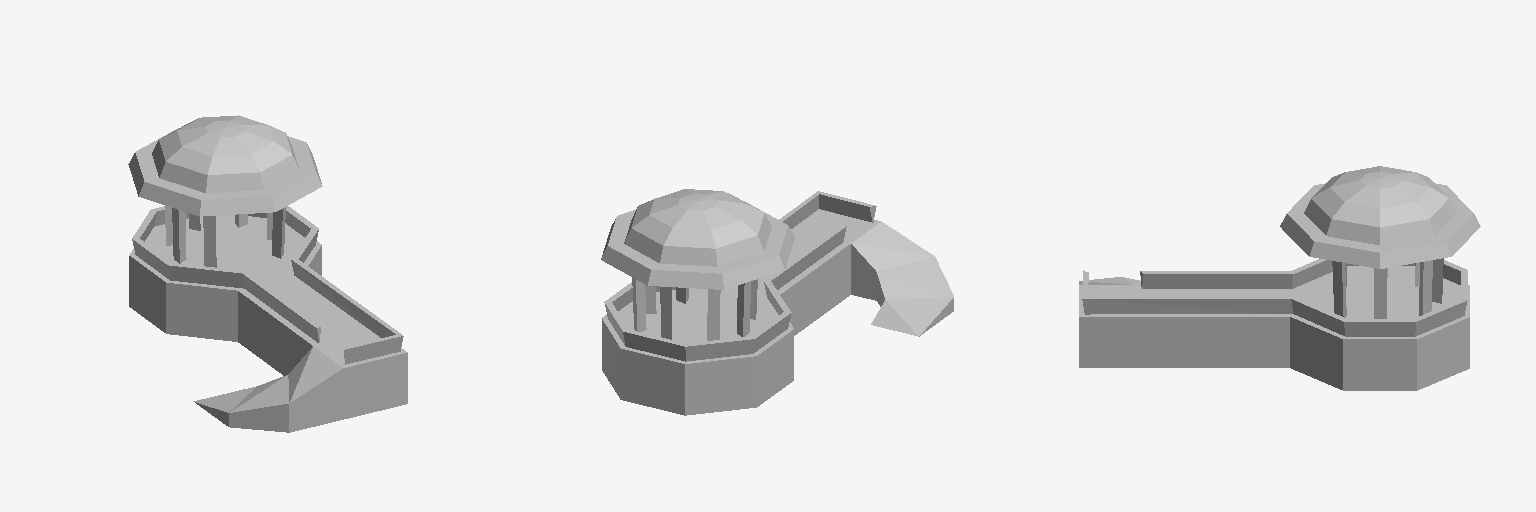
Rendered from rotunda.obj.
The picture shows the model from 3 angles: view 1: azimuth 30°, elevation 25°; view 2: azimuth 150°, elevation 25°; view 3: azimuth 270°, elevation 25°; orthographic projection.
Parts seen in each view (by area): view 1: rotunda; view 2: rotunda; view 3: rotunda.
Boxes of the visible parts, <box> form: rotunda: <box>128,115,407,432</box>; rotunda: <box>601,189,953,415</box>; rotunda: <box>1079,166,1480,390</box>.
Bounding box in the file's own units: 6.56 × 5.1 × 10.67.